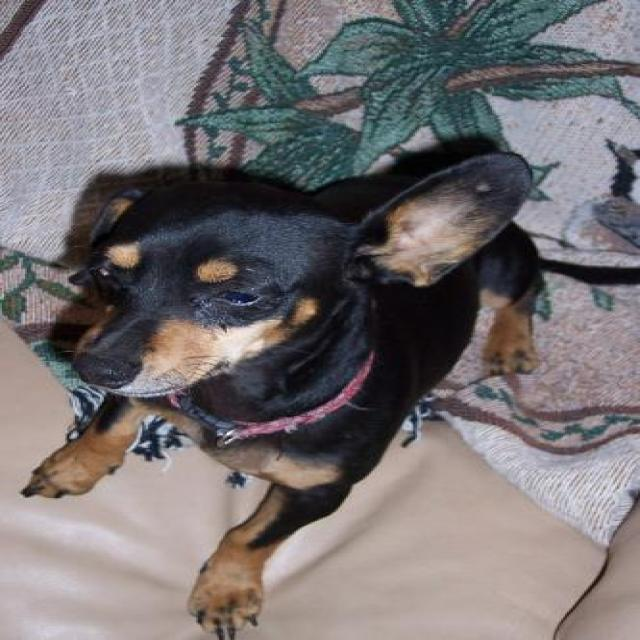Dogs: (17, 133, 638, 639)
